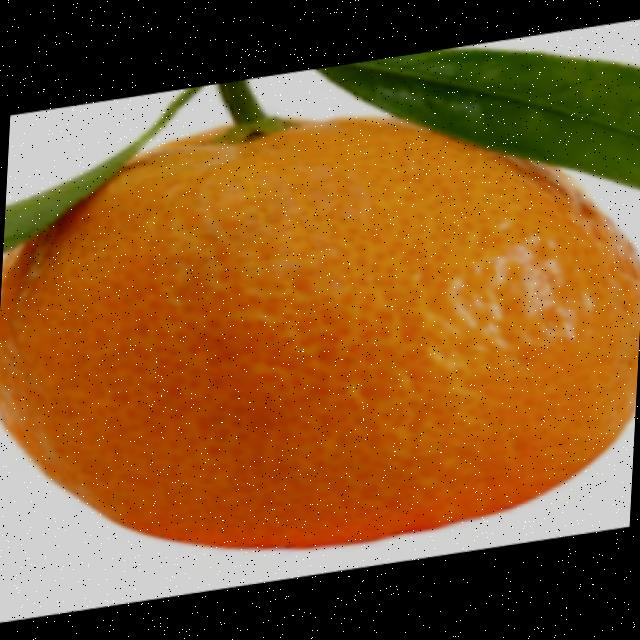orange: (0, 95, 640, 572)
